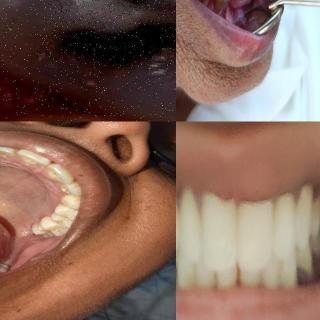cavities: (7, 0, 176, 90)
maligned: (0, 144, 21, 164)
stains: (55, 182, 90, 195), (18, 152, 46, 167), (40, 168, 72, 180), (208, 270, 225, 292), (232, 261, 246, 287), (53, 195, 83, 207), (0, 148, 21, 158), (56, 203, 74, 213)
